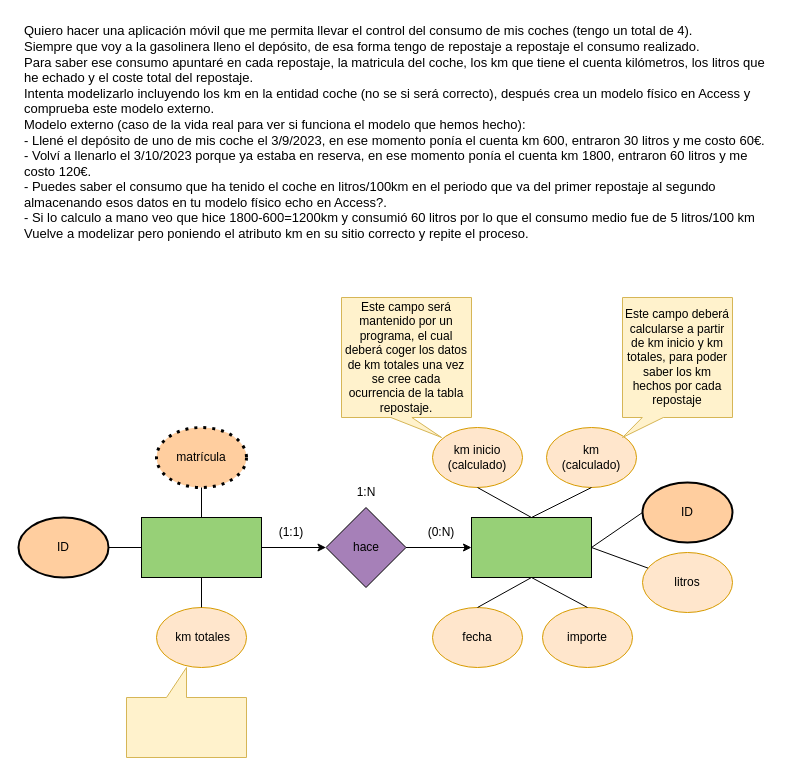
Some shapes in this 799 by 775 pixel diagram are drawn without their labels. The box of each missing label's shape, as (x1, y1, x2, y2) in pixels:
Coche: (140, 516, 262, 578)
Este campo se actualiza cada vez que repostamos: (126, 666, 246, 758)
Repostaje: (470, 516, 592, 578)
